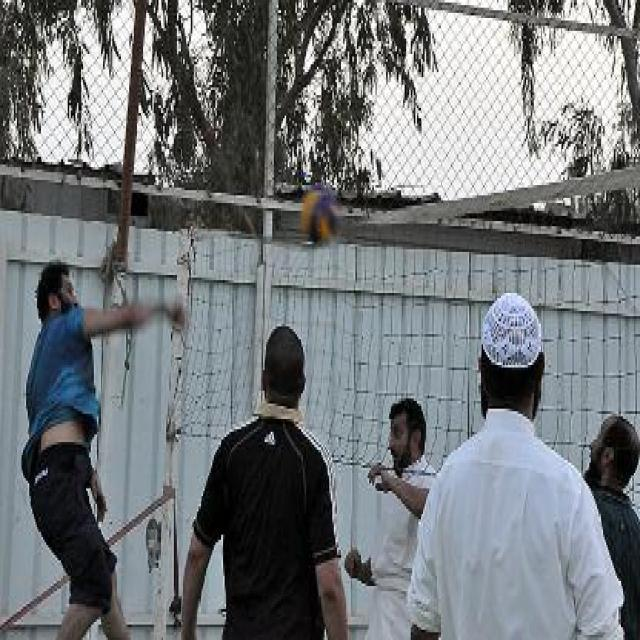volleyball: (300, 185, 344, 242)
